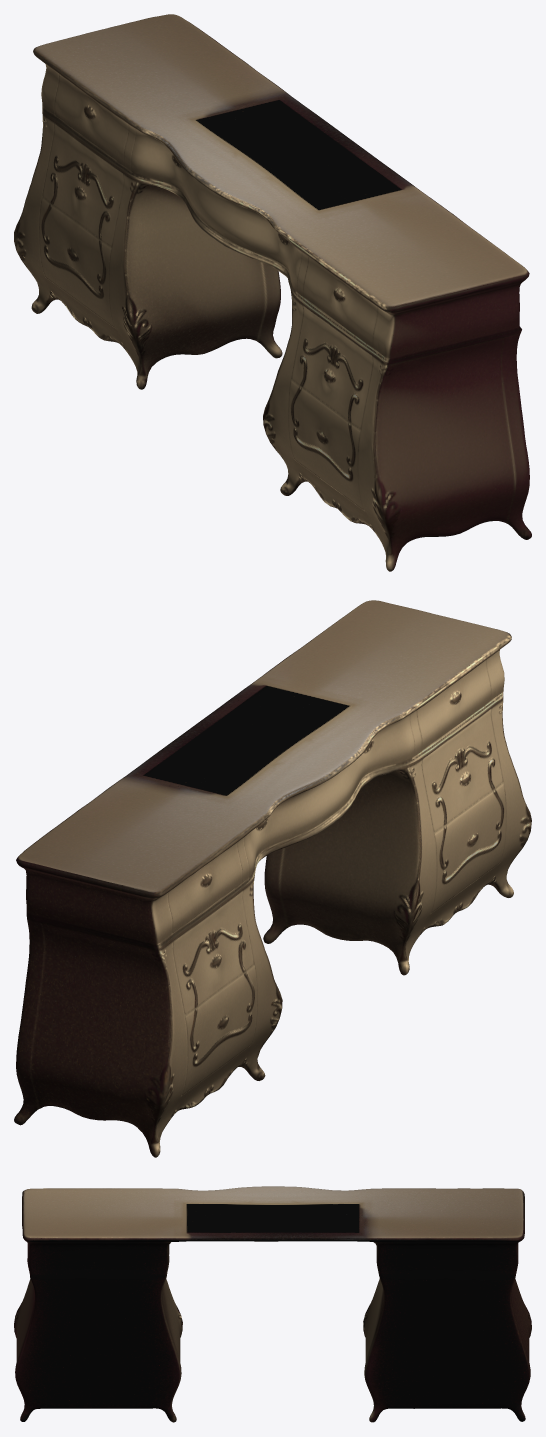
Rendered from dressingtable.obj.
3 views of the same model, one above another, from view 1: azimuth 30°, elevation 25°; view 2: azimuth 150°, elevation 25°; view 3: azimuth 270°, elevation 25° (orthographic). The views are drawn at different scales.
Visible parts, largest first — view 1: autoUnwrapFaces dressingtableBaked BedroomBakedTriExport; view 2: autoUnwrapFaces dressingtableBaked BedroomBakedTriExport; view 3: autoUnwrapFaces dressingtableBaked BedroomBakedTriExport.
Part boxes in pixels (bbox=[...]): autoUnwrapFaces dressingtableBaked BedroomBakedTriExport: bbox=[14, 14, 531, 571]; autoUnwrapFaces dressingtableBaked BedroomBakedTriExport: bbox=[14, 600, 531, 1157]; autoUnwrapFaces dressingtableBaked BedroomBakedTriExport: bbox=[14, 1186, 531, 1422].
Size of the model in its own units: 0.6202 by 0.9839 by 2.47.
